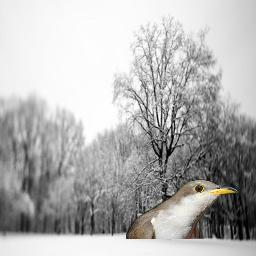Cuckoo: (126, 179, 238, 239)
